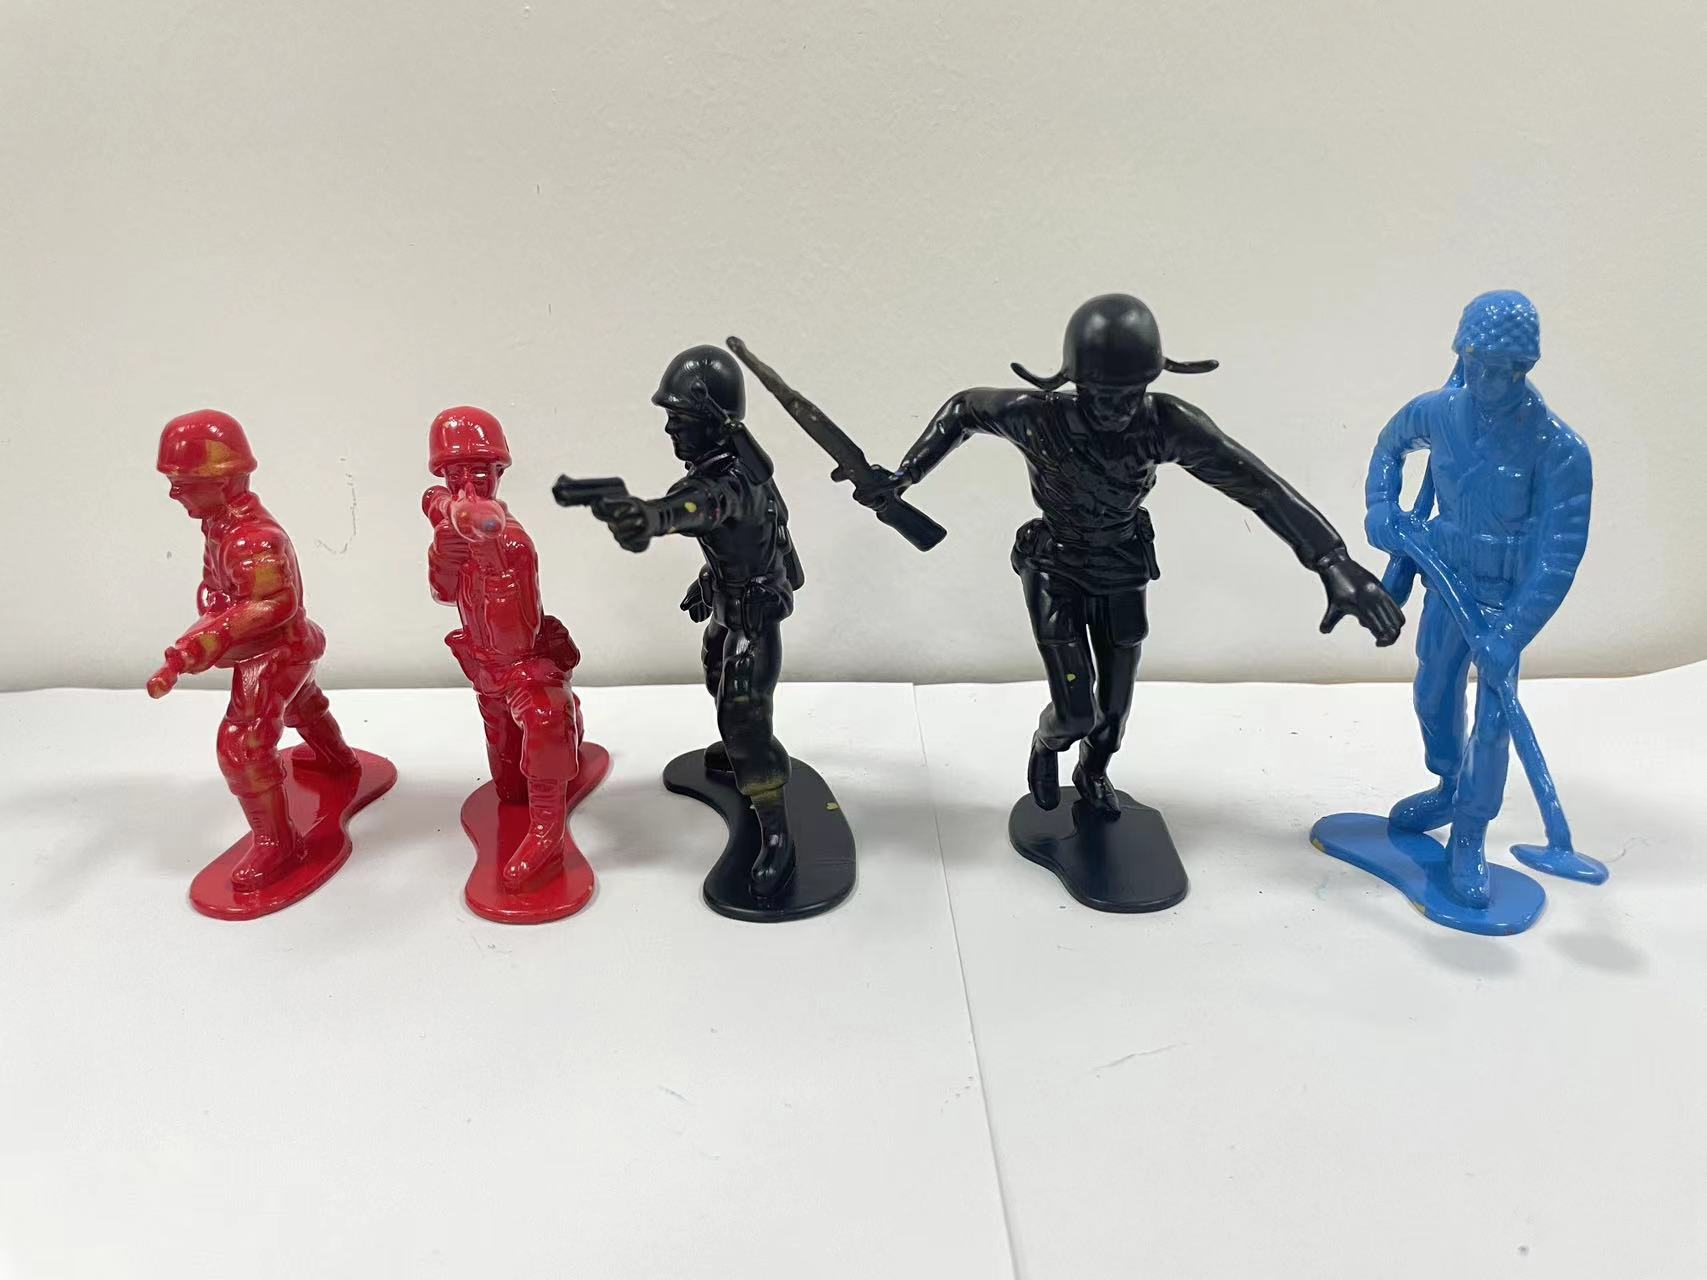black: (805, 253, 1305, 984), (574, 277, 841, 999)
blue: (1320, 289, 1665, 1002)
red: (82, 358, 376, 984), (382, 376, 586, 994)
